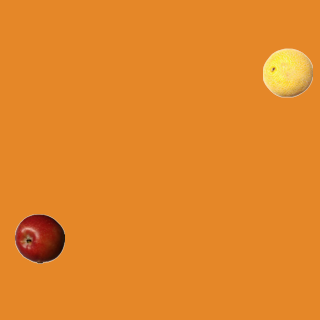Apple Braeburn: (14, 213, 64, 263)
Cantaloupe 1: (262, 47, 312, 97)
